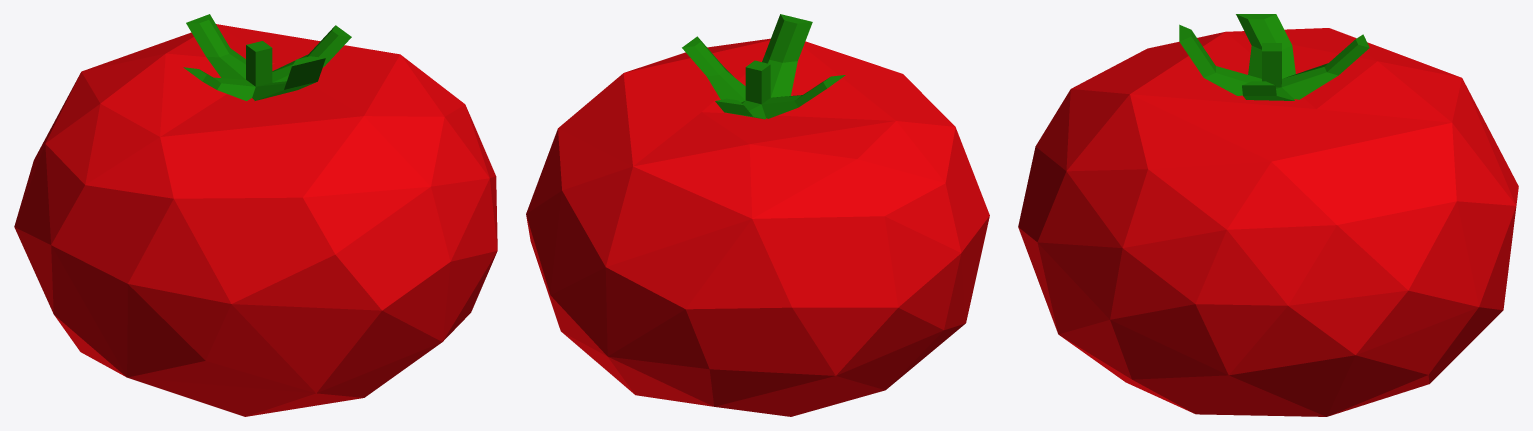
File: Tomato.fbx
The picture shows the model from 3 angles, left to right: view 1: azimuth 30°, elevation 25°; view 2: azimuth 150°, elevation 25°; view 3: azimuth 270°, elevation 25°; orthographic projection. The views are drawn at different scales.
Visible parts, largest first — view 1: Sphere, Cube; view 2: Sphere, Cube; view 3: Sphere, Cube.
Boxes of the visible parts, bbox=[...] form: Sphere: bbox=[14, 24, 497, 416]; Cube: bbox=[183, 14, 351, 100]; Sphere: bbox=[526, 38, 989, 416]; Cube: bbox=[682, 14, 845, 119]; Sphere: bbox=[1018, 28, 1518, 416]; Cube: bbox=[1179, 14, 1369, 100].
Size of the model in its own units: 201 by 153 by 201.
